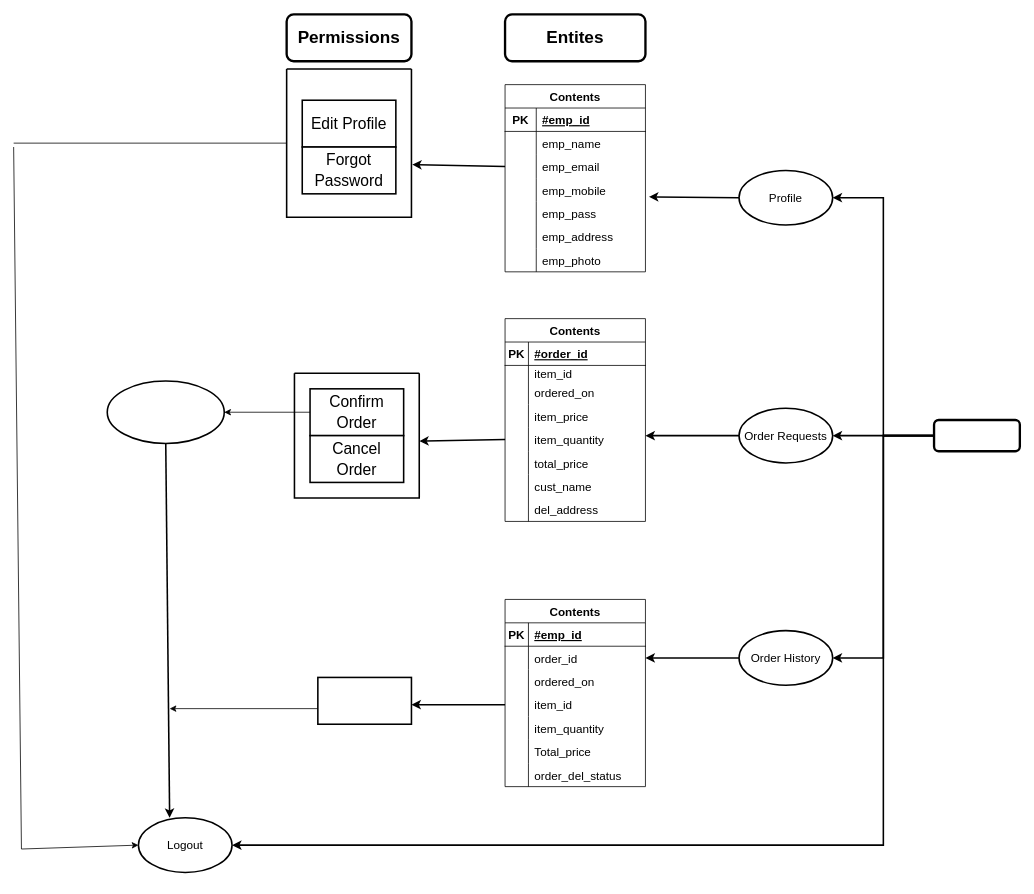
Some shapes in this 1034 by 894 pixel diagram are drawn without their labels. Here are the shapes that lost their labels. From the top down, the centre of each, then its label:
(x=165, y=412): Delivered/Not Delivered
(x=976, y=435): Options
(x=364, y=700): List
